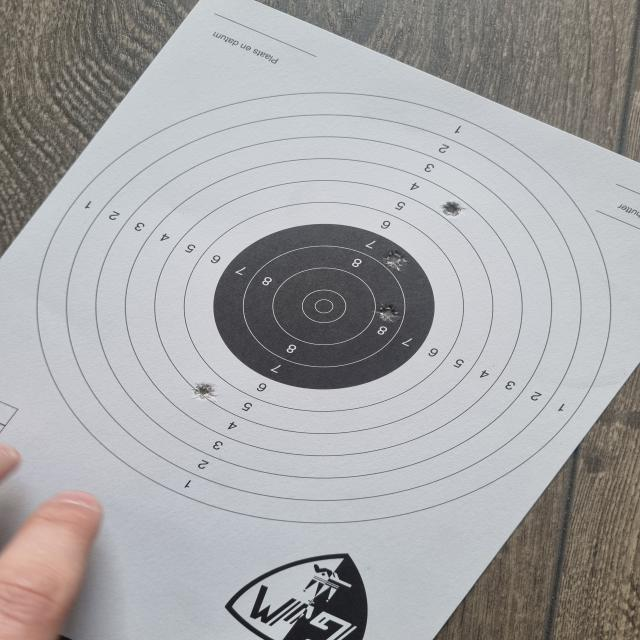5: (440, 200, 468, 216)
6: (190, 382, 218, 401)
8: (382, 248, 410, 274)
9: (378, 304, 400, 322)
Black Contour: (215, 222, 438, 389)
Target: (31, 90, 618, 526)
